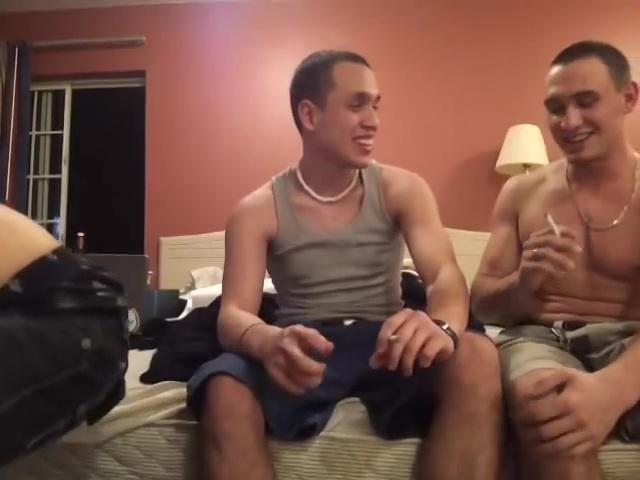cigarette: (539, 209, 566, 240), (387, 330, 406, 346)
